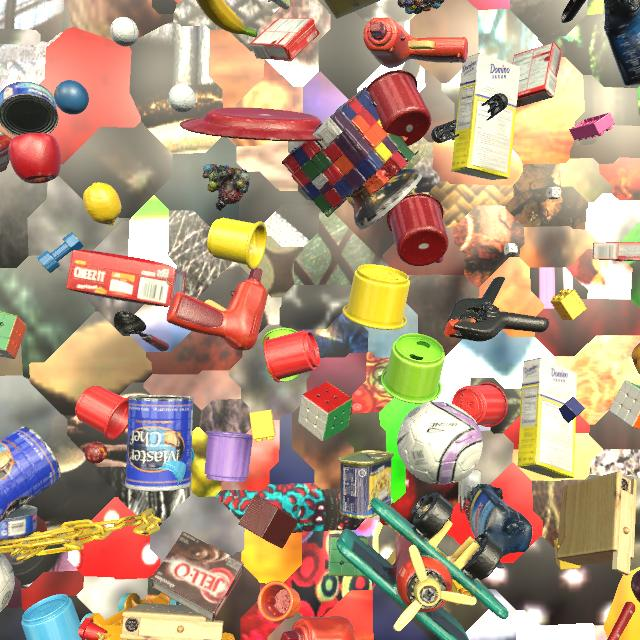ycb_002_master_chef_can: (125, 395, 194, 491), (0, 426, 61, 522)
ycb_003_cracker_box: (66, 250, 187, 307), (0, 131, 12, 172)
ycb_004_sugar_box: (451, 53, 521, 180), (517, 358, 577, 479), (324, 0, 380, 19)
ycb_005_tomato_soup_can: (0, 229, 1, 232)
ycb_007_tuna_fish_can: (0, 81, 58, 136), (0, 505, 38, 540)
ycb_008_pudding_box: (151, 531, 244, 621)
ycb_009_gelatin_box: (512, 42, 562, 108), (250, 18, 320, 61), (593, 242, 640, 261)
ycb_010_potted_meat_can: (338, 450, 394, 519)
ycb_011_banana: (196, 0, 257, 38)
ycb_013_apple: (8, 133, 61, 184)
ycb_014_lemon: (83, 182, 121, 226)
ycb_015_peach: (632, 343, 640, 375)
ycb_018_plum: (631, 570, 640, 603)
